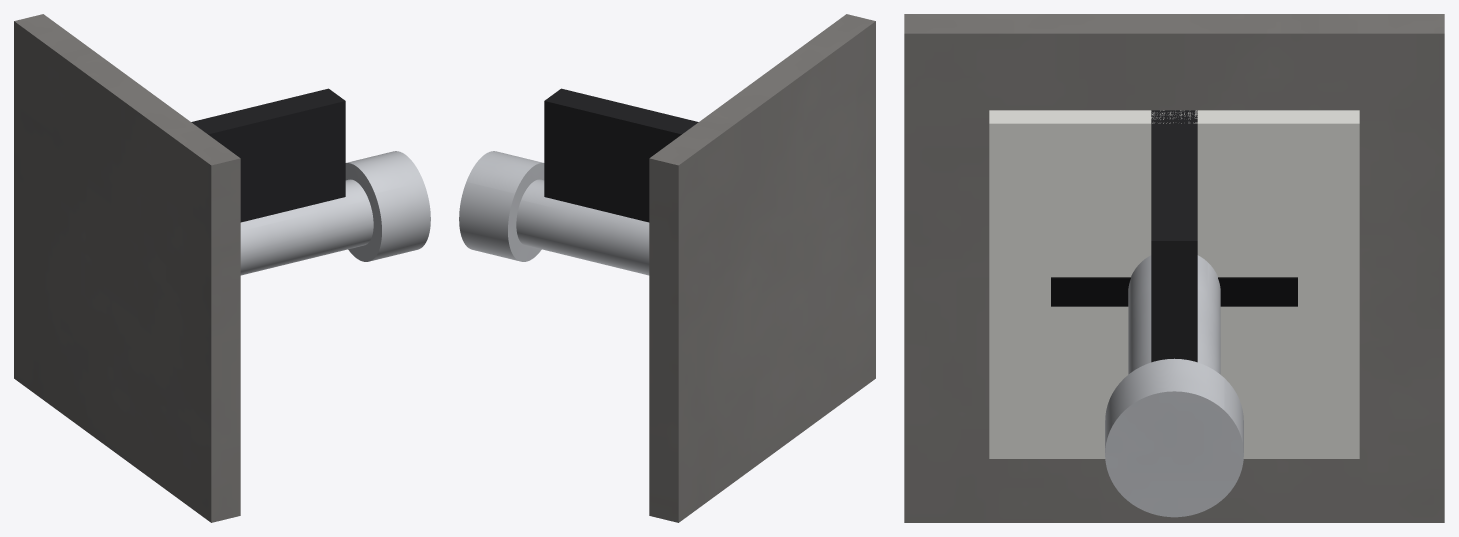
Rendered from station15_grapple_fixture_frgf.glb.
3 renders of one model, left to right at view 1: azimuth 30°, elevation 25°; view 2: azimuth 150°, elevation 25°; view 3: azimuth 270°, elevation 25°, orthographic. The views are drawn at different scales.
Parts seen in each view (by area): view 1: base_plate, grapple_shaft, cam_arm; view 2: base_plate, grapple_shaft, cam_arm; view 3: base_plate, target, grapple_shaft, cam_arm, target_mark.
Part boxes in pixels (x1,y1,x2,y2): base_plate: [14, 14, 240, 522]; grapple_shaft: [240, 151, 430, 275]; cam_arm: [191, 88, 345, 222]; base_plate: [649, 14, 875, 522]; grapple_shaft: [459, 151, 649, 275]; cam_arm: [544, 88, 698, 222]; base_plate: [904, 14, 1444, 522]; target: [989, 110, 1359, 458]; grapple_shaft: [1105, 255, 1243, 517]; cam_arm: [1151, 110, 1197, 362]; target_mark: [1051, 277, 1297, 306].
Size of the model in its own units: 0.3 by 0.35 by 0.35.
Materials: 5 (2 with a texture image).
